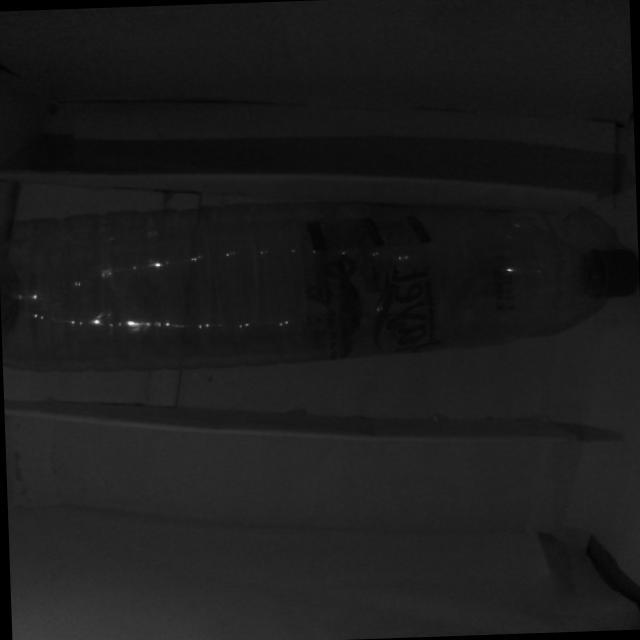good: (0, 177, 640, 389)
